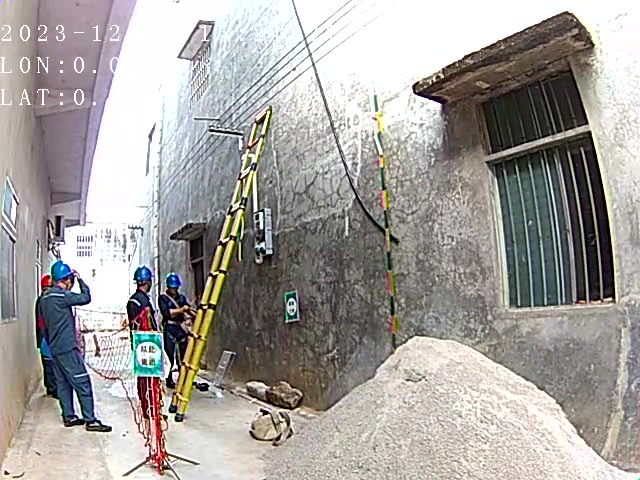halt: (54, 264, 80, 292), (135, 269, 158, 295), (167, 276, 185, 297)
